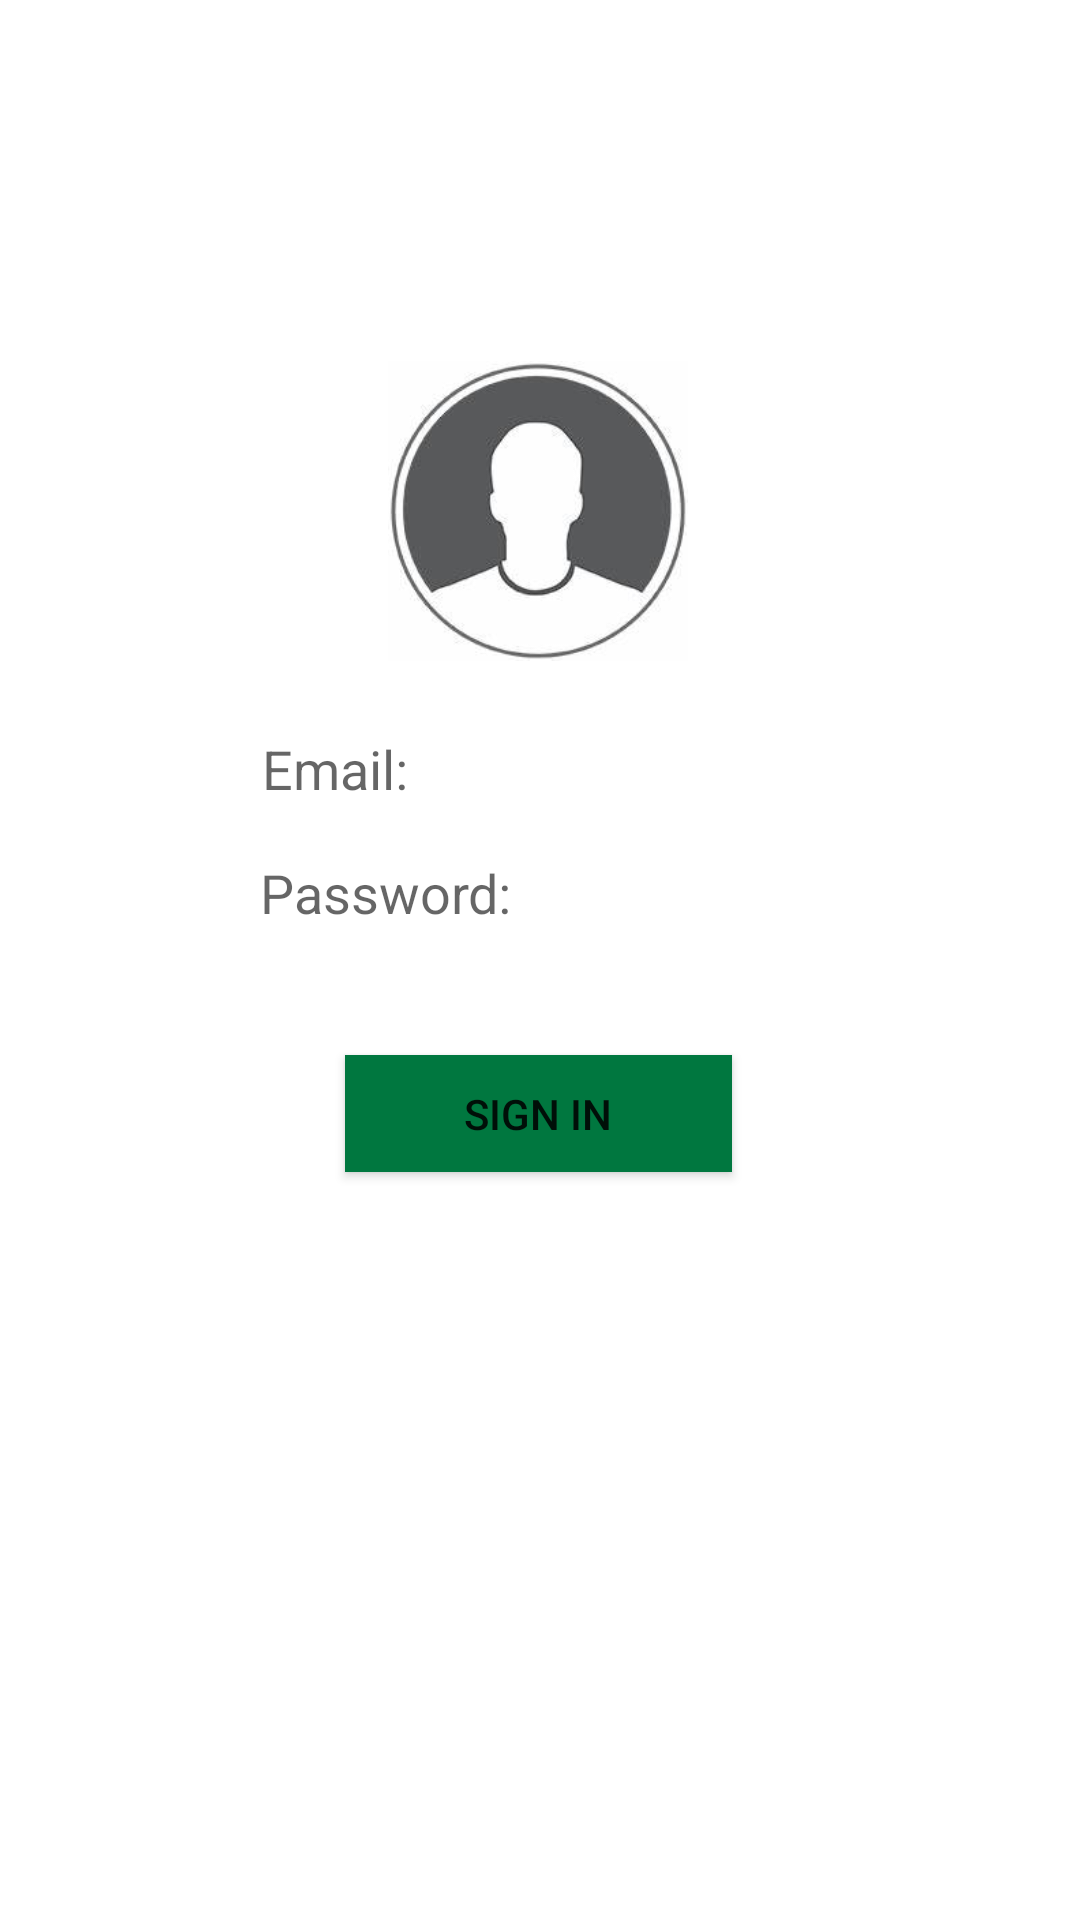

Icon bounding boxes for this 1080*1920 phone screenshot, format BBox(x1, y1, x2, y2):
login: BBox(390, 363, 686, 659)
